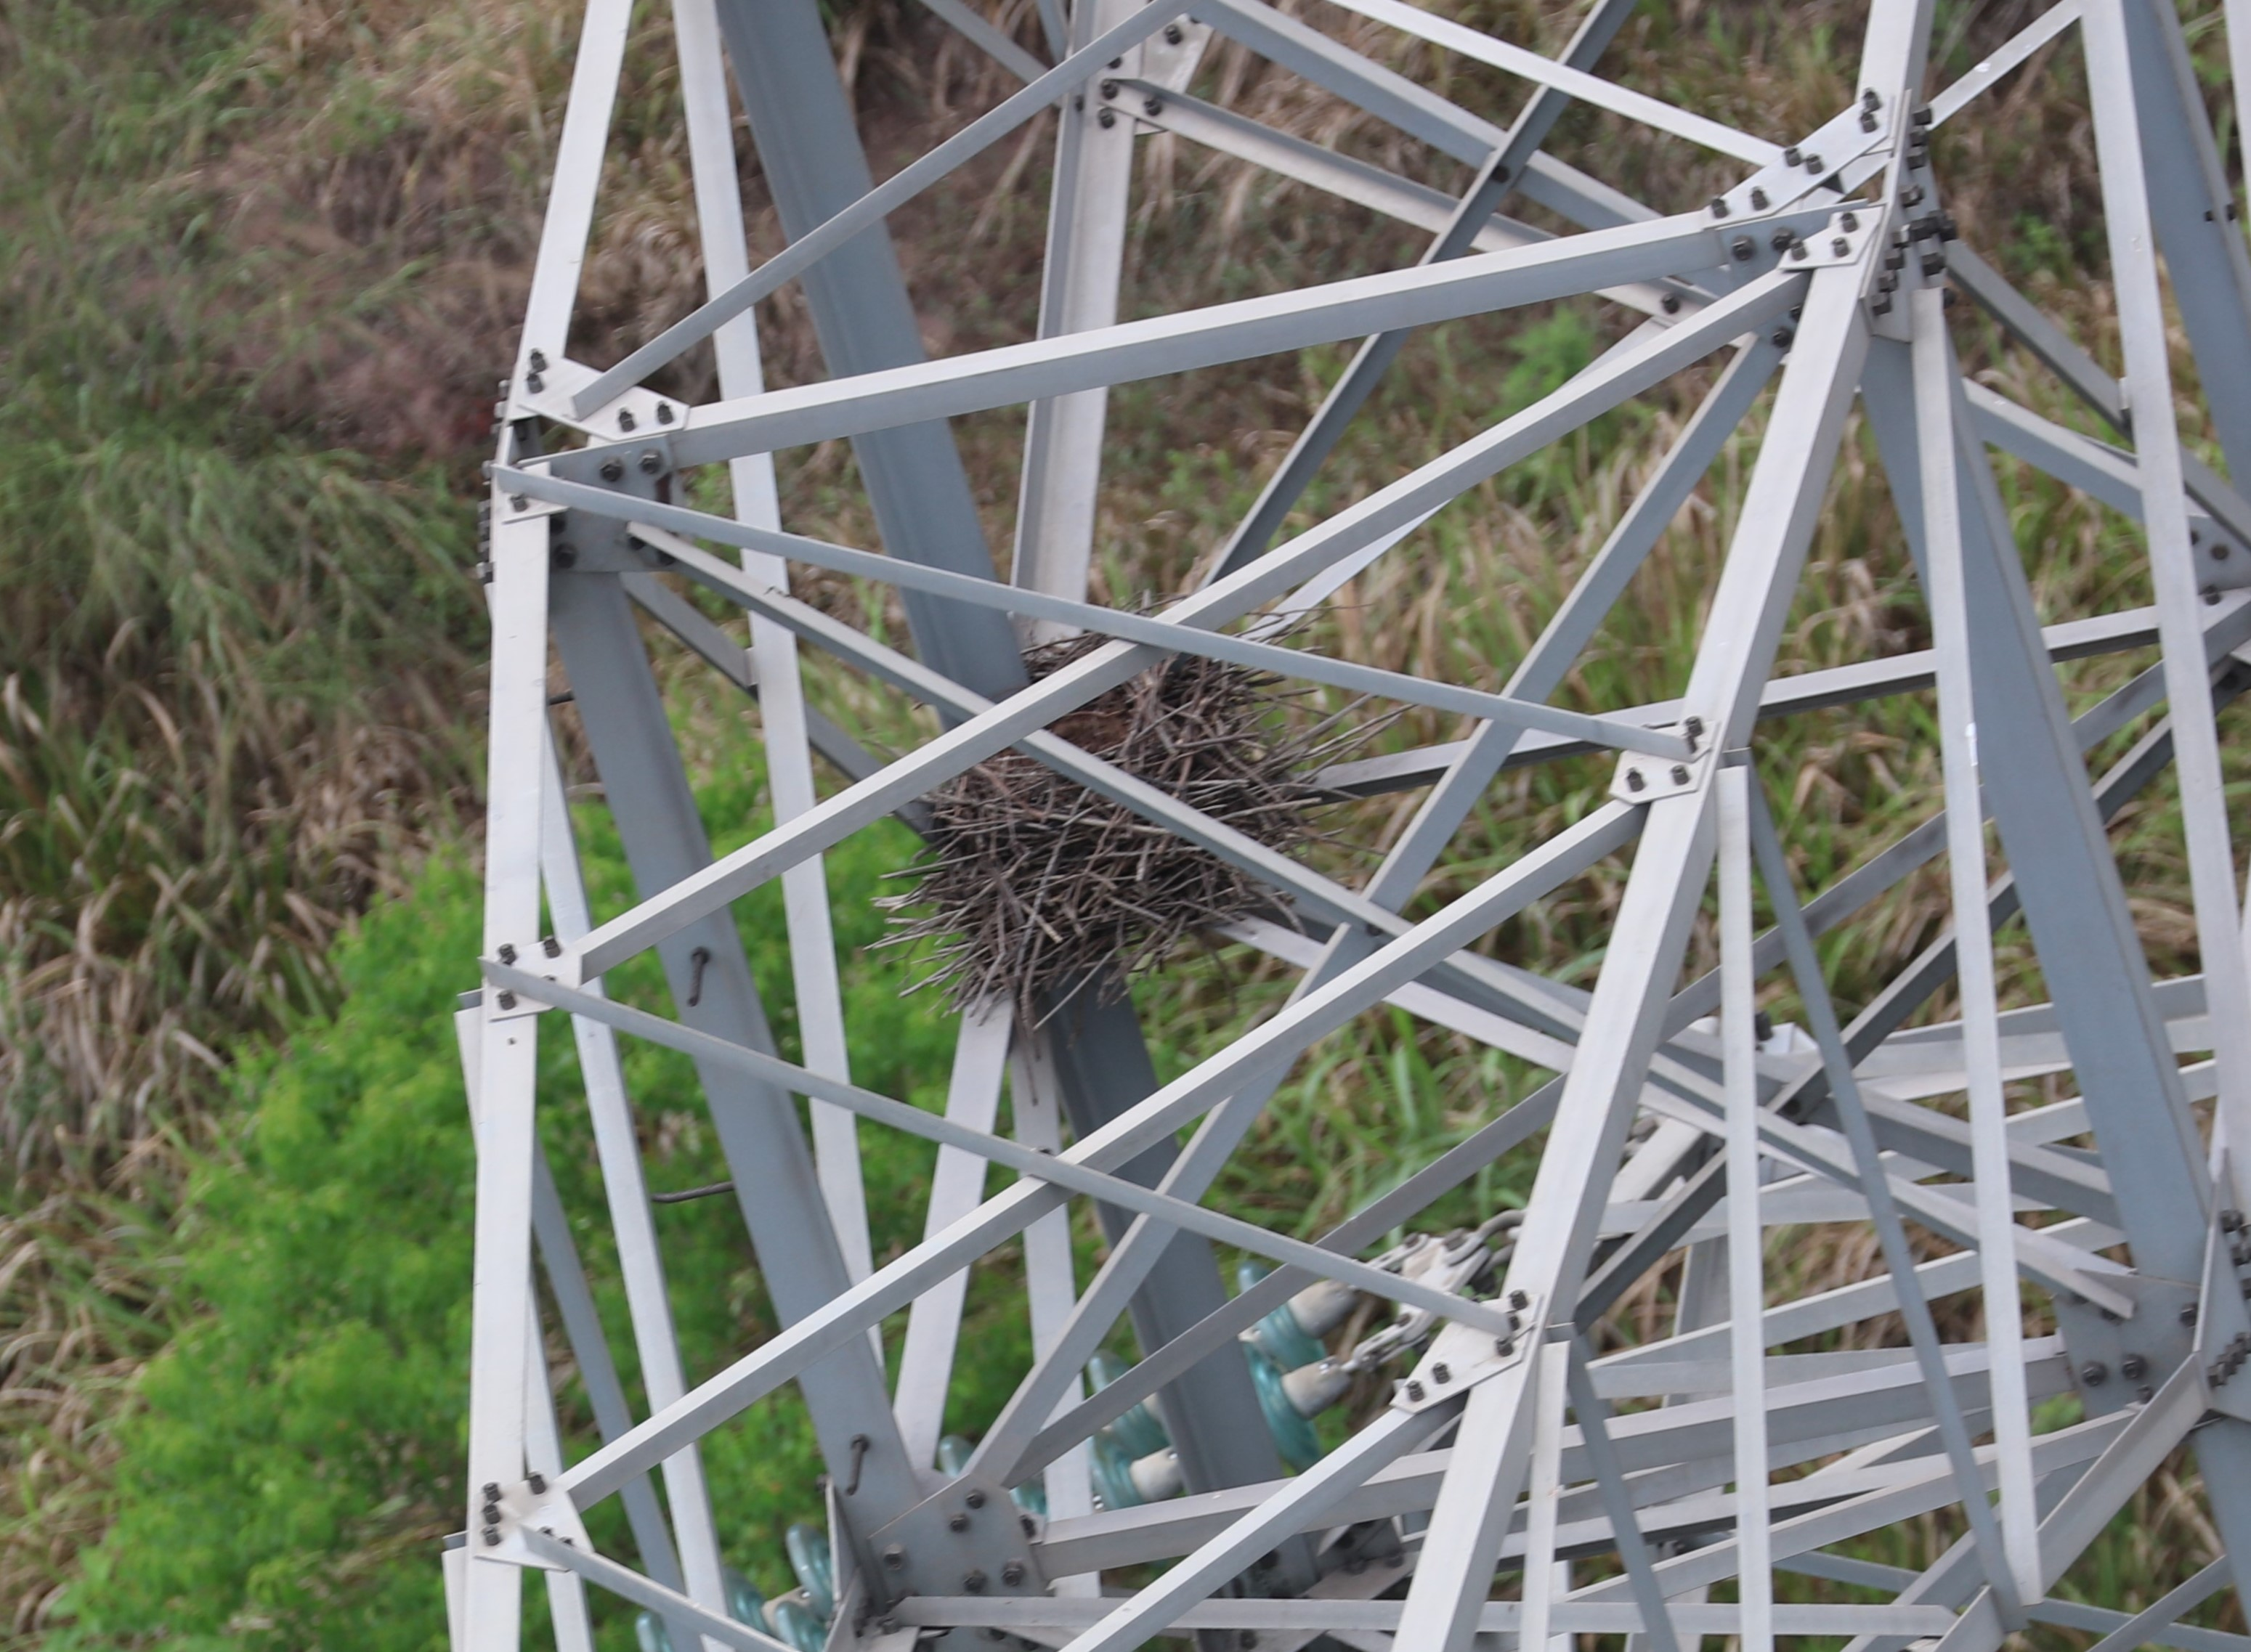niaowo: (900, 575, 1354, 997)
